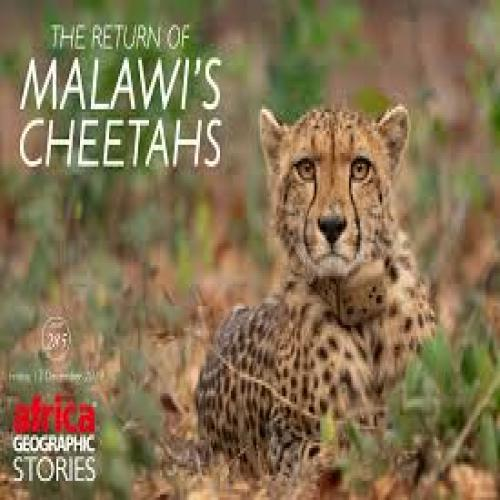cheetah-endangered: (209, 104, 441, 448)
